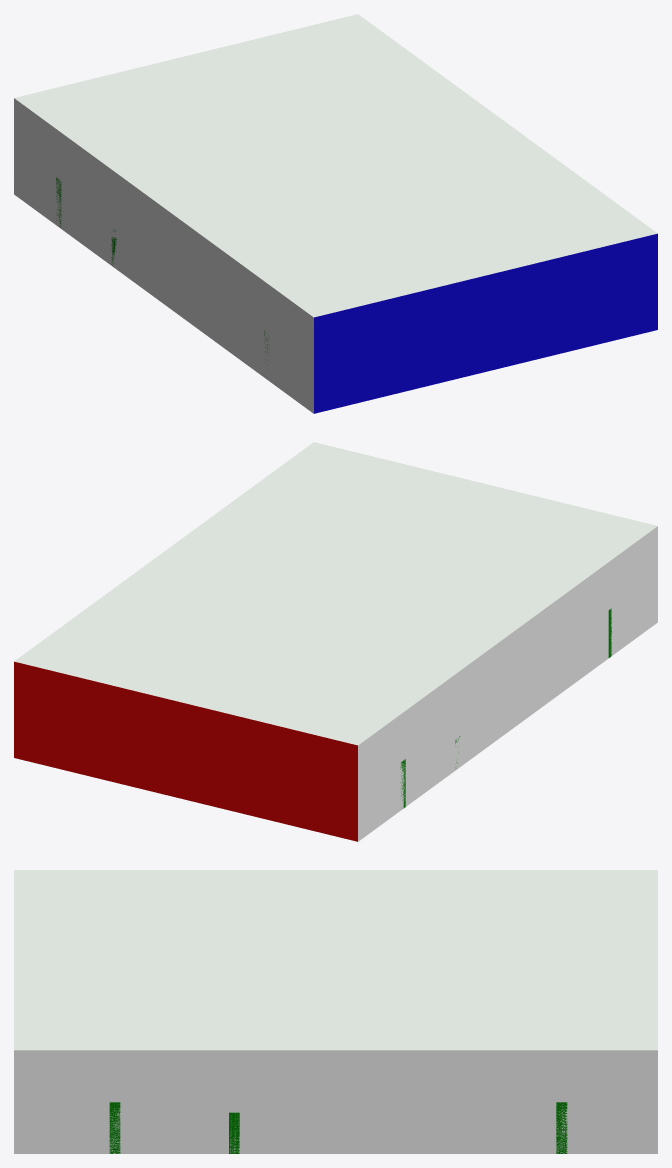
The model's file is Map1.fbx.
The picture shows the model from 3 angles, top to bottom: view 1: azimuth 30°, elevation 25°; view 2: azimuth 150°, elevation 25°; view 3: azimuth 270°, elevation 25°; orthographic projection. The views are drawn at different scales.
Visible parts, largest first — view 1: Plane; view 2: Plane; view 3: Plane.
Part boxes in pixels (x1,y1,x2,y2): Plane: (14, 14, 657, 413); Plane: (14, 442, 657, 841); Plane: (14, 870, 657, 1153).
Size of the model in its own units: 37.37 by 10 by 56.39.
